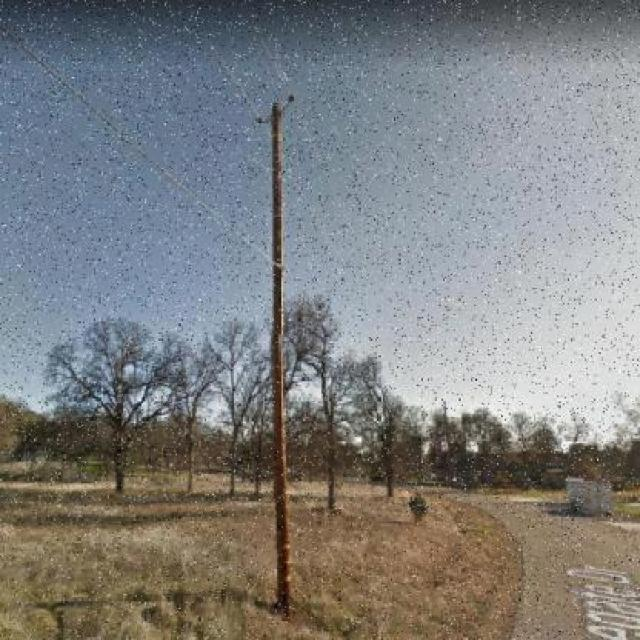pole: (272, 101, 291, 612)
wire: (2, 22, 274, 268)
